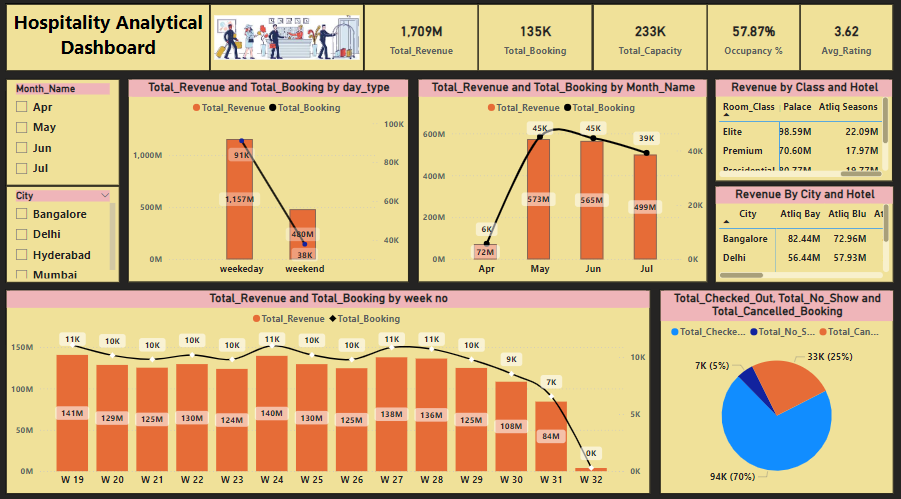

The dashboard page shown, as its layout file describes it:
{"tool":"powerbi","page":{"name":"Dashboard","canvas":[1280,720],"ordinal":4},"visuals":[{"type":"textbox","box":[11.1,11.1,289.5,95.4],"z":0},{"type":"image","box":[300.6,11.1,217.9,95],"z":1000},{"type":"card","fields":{"Values":["New_Measures.Total_Revenue"]},"box":[518.5,11.1,162.2,95.4],"z":2000},{"type":"card","fields":{"Values":["New_Measures.Avg_Rating"]},"box":[1137.3,11.1,132,95.4],"z":3000},{"type":"card","fields":{"Values":["New_Measures.Occupancy %"]},"box":[1005.3,11.1,132,95],"z":4000},{"type":"card","fields":{"Values":["New_Measures.Total_Booking"]},"box":[680.8,11.1,162.2,95.4],"z":5000},{"type":"card","fields":{"Values":["New_Measures.Total_Capacity"]},"box":[843,11.1,162.2,95.4],"z":6000},{"type":"lineStackedColumnComboChart","fields":{"Category":["dim_date.day_type"],"Y":["New_Measures.Total_Revenue"],"Y2":["New_Measures.Total_Booking"]},"box":[184.5,117.7,397.7,287.9],"z":7000},{"type":"lineStackedColumnComboChart","fields":{"Y":["New_Measures.Total_Revenue"],"Category":["fact_bookings.Month_Name"],"Y2":["New_Measures.Total_Booking"]},"box":[594.9,117.7,410.4,287.9],"z":8000},{"type":"pivotTable","title":"Revenue by Class and Hotel","fields":{"Rows":["dim_rooms.Room_Class"],"Values":["New_Measures.Total_Revenue"],"Columns":["dim_hotels.property_name"]},"box":[1016.2,117.6,252.3,144.6],"z":9000},{"type":"slicer","fields":{"Values":["fact_bookings.Month_Name"]},"box":[11.1,117.7,160.7,151.1],"z":10000},{"type":"slicer","fields":{"Values":["dim_hotels.city"]},"box":[11.1,268.8,160.7,136.8],"z":11000},{"type":"pieChart","fields":{"Y":["New_Measures.Total_Checked_Out","New_Measures.Total_No_Show","New_Measures.Total_Cancelled_Booking"]},"box":[938.5,416.7,330.8,289.5],"z":12000},{"type":"lineStackedColumnComboChart","fields":{"Category":["dim_date.week no"],"Y":["New_Measures.Total_Revenue"],"Y2":["New_Measures.Total_Booking"]},"box":[11.3,416.7,912.8,289.1],"z":13000},{"type":"pivotTable","title":"Revenue By City and Hotel","fields":{"Rows":["dim_hotels.City"],"Values":["New_Measures.Total_Revenue"],"Columns":["dim_hotels.property_name"]},"box":[1016.4,268.8,252.9,136.8],"z":14000}]}

Visuals, with their boxes in screenshot pixels (x1, y1, x2, y2), scaled from the page's 1280x720 canvas onto the 901x499 screenshot:
textbox: 8 8 212 74
image: 212 8 365 74
card - New_Measures.Total_Revenue: 365 8 479 74
card - New_Measures.Avg_Rating: 801 8 893 74
card - New_Measures.Occupancy %: 708 8 801 74
card - New_Measures.Total_Booking: 479 8 593 74
card - New_Measures.Total_Capacity: 593 8 708 74
lineStackedColumnComboChart - dim_date.day_type x New_Measures.Total_Revenue: 130 82 410 281
lineStackedColumnComboChart - New_Measures.Total_Revenue x fact_bookings.Month_Name: 419 82 708 281
"Revenue by Class and Hotel" pivotTable: 715 82 893 182
slicer - fact_bookings.Month_Name: 8 82 121 186
slicer - dim_hotels.city: 8 186 121 281
pieChart - New_Measures.Total_Checked_Out x New_Measures.Total_No_Show: 661 289 893 489
lineStackedColumnComboChart - dim_date.week no x New_Measures.Total_Revenue: 8 289 650 489
"Revenue By City and Hotel" pivotTable: 715 186 893 281
